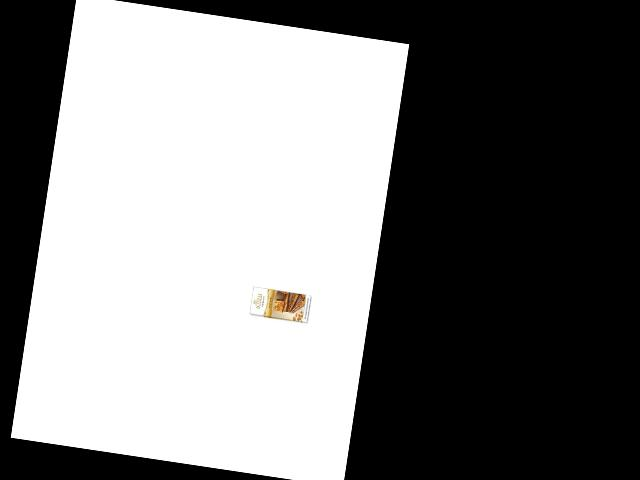chocolate: (244, 280, 314, 334)
